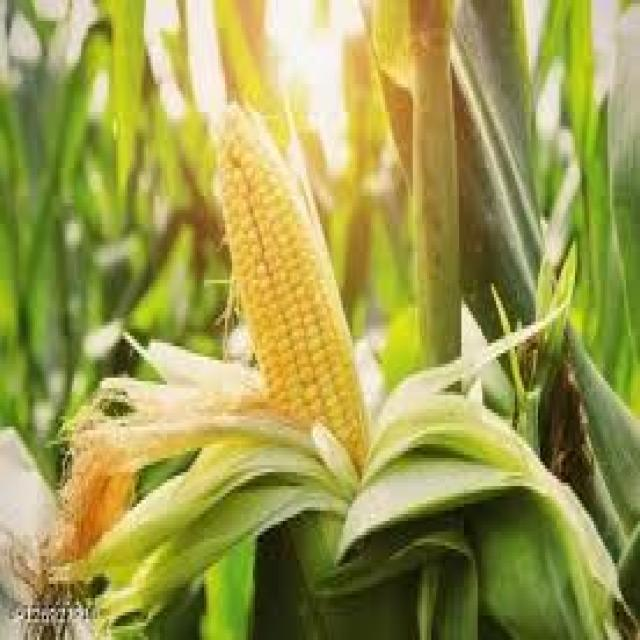purecorn: (197, 102, 407, 510)
